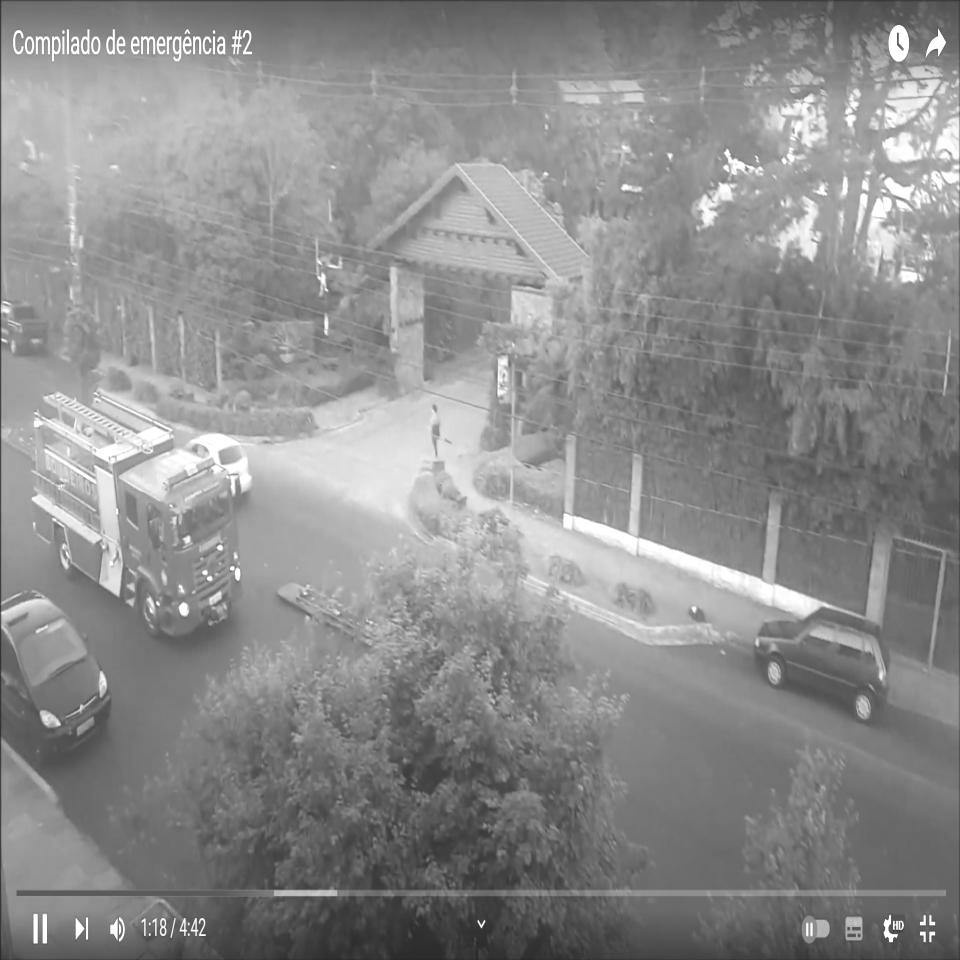bombeiro: (30, 388, 244, 643)
